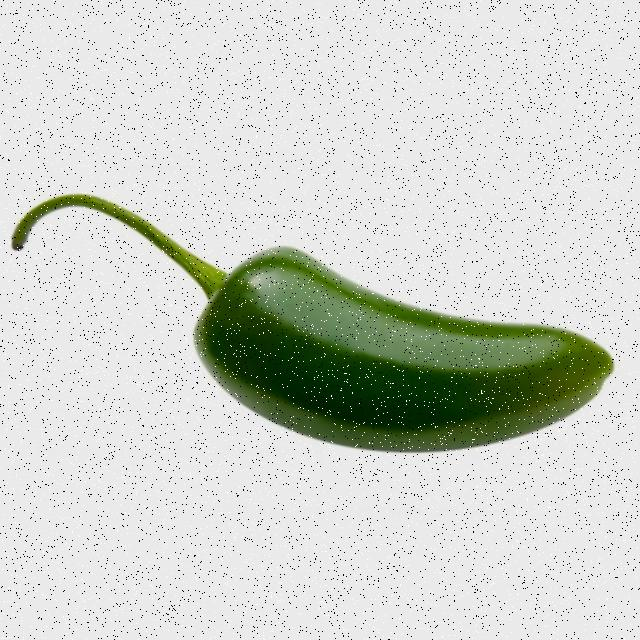Chili Pepper: (11, 194, 614, 453)
